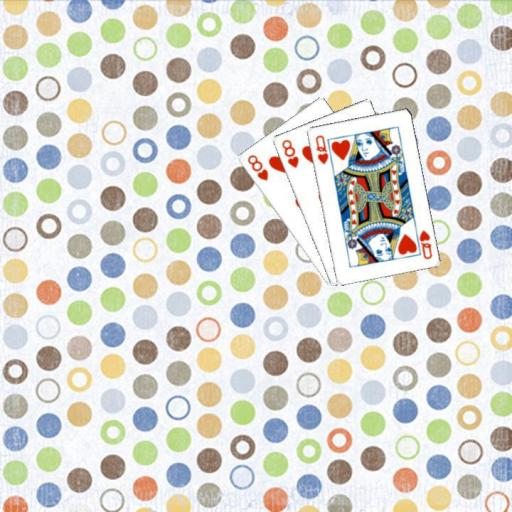8H: (244, 152, 269, 182), (278, 136, 300, 169)
QH: (412, 224, 433, 260), (312, 132, 329, 166)
